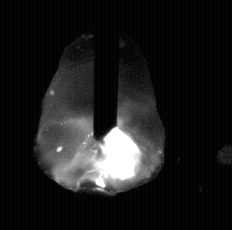arame: (94, 0, 119, 140)
poca: (34, 0, 165, 230)
